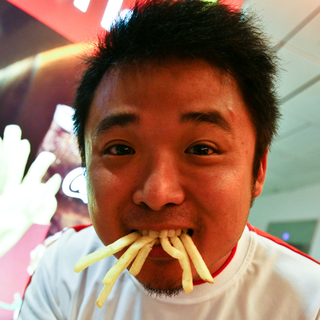eye: (181, 138, 231, 165), (96, 139, 144, 162)
